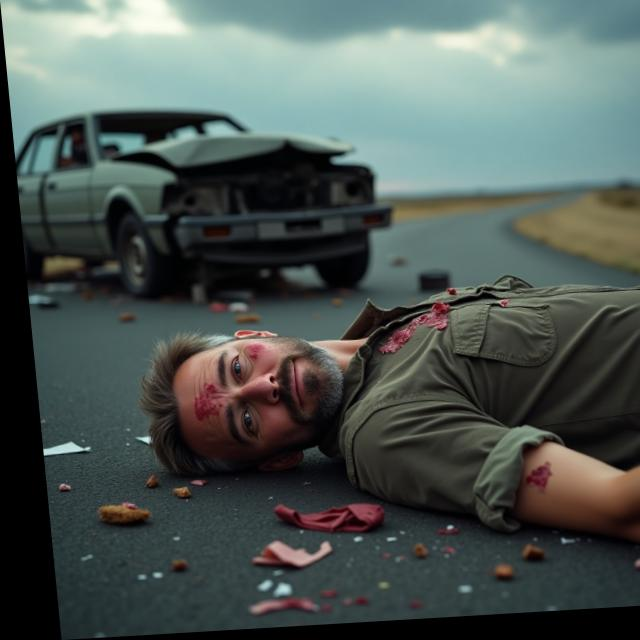injury: (184, 371, 230, 426), (241, 342, 273, 366)
